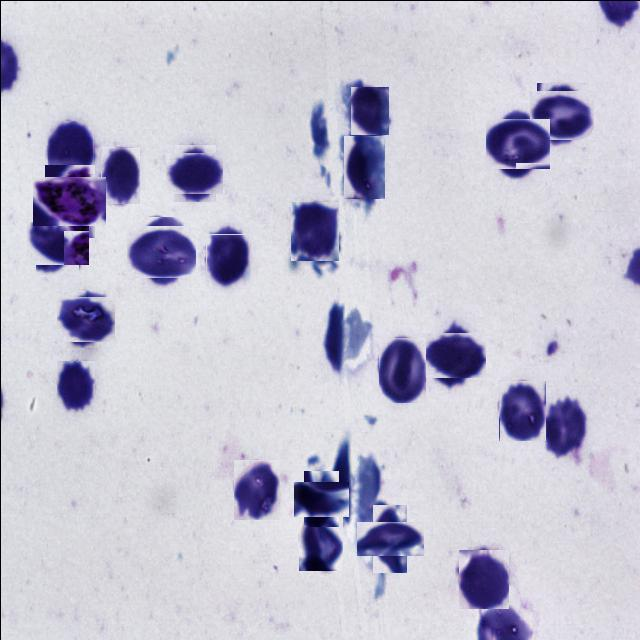gametocyte: (39, 170, 100, 232)
red blood cell: (130, 220, 190, 282), (488, 114, 546, 172), (532, 86, 590, 142), (457, 548, 508, 608), (378, 337, 425, 402), (426, 326, 480, 382), (498, 379, 545, 440), (290, 201, 338, 260), (30, 216, 83, 269), (233, 459, 279, 519), (543, 394, 586, 457), (59, 292, 111, 344), (364, 512, 414, 564), (343, 135, 384, 198), (298, 513, 342, 570), (169, 148, 219, 198), (205, 233, 250, 288), (48, 120, 94, 173), (100, 146, 139, 203), (297, 476, 343, 522), (56, 360, 94, 411), (350, 86, 388, 134)
